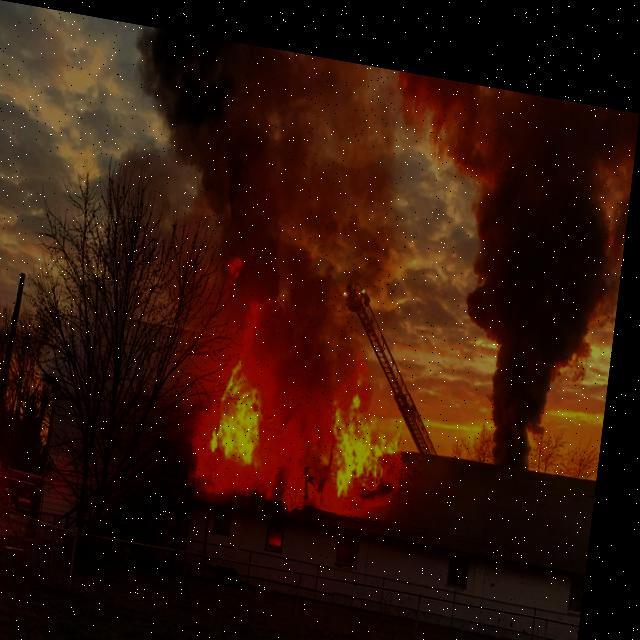Fire: (197, 278, 429, 512), (229, 244, 252, 282)
